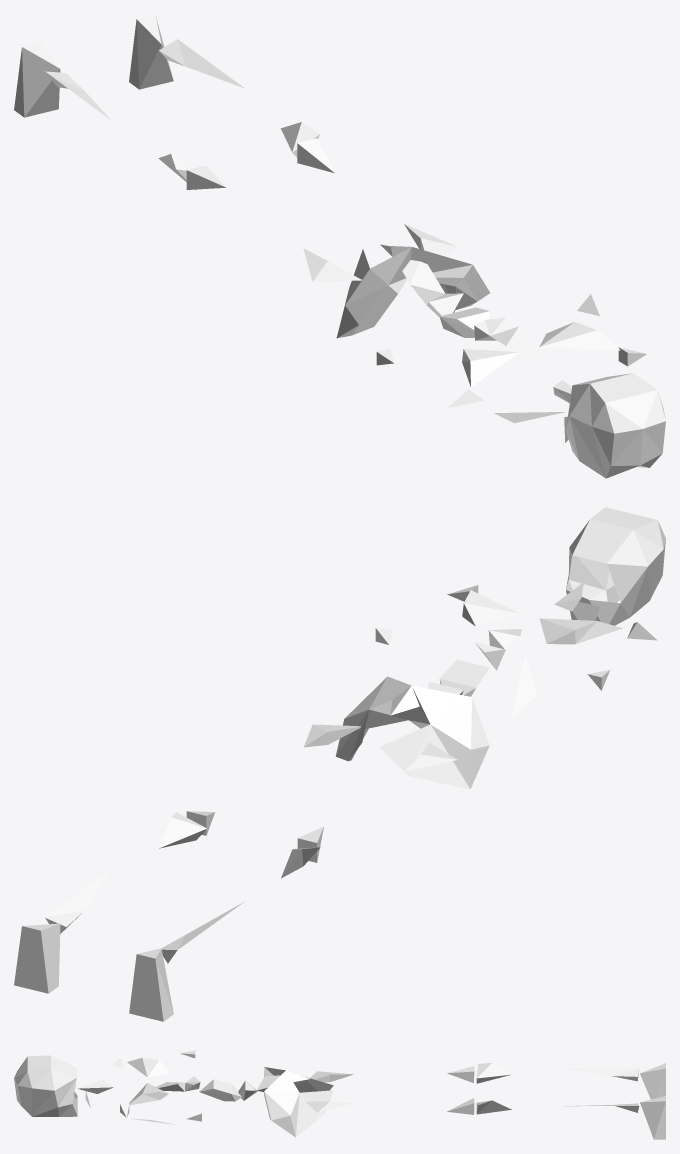
The model's file is skeletonlow_wtf.obj.
The picture shows the model from 3 angles, top to bottom: view 1: azimuth 30°, elevation 25°; view 2: azimuth 150°, elevation 25°; view 3: azimuth 270°, elevation 25°; orthographic projection. The views are drawn at different scales.
Visible parts, largest first — view 1: group1; view 2: group1; view 3: group1.
Boxes of the visible parts, x1,y1,x2,y2 form: group1: (14,14,665,478); group1: (14,507,665,1021); group1: (14,1050,665,1139).
Size of the model in its own units: 151 by 74.01 by 660.
